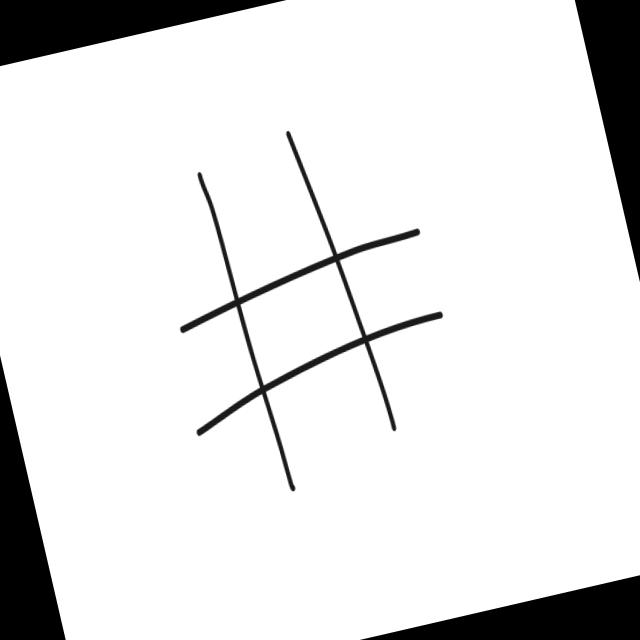grid: (132, 108, 472, 506)
